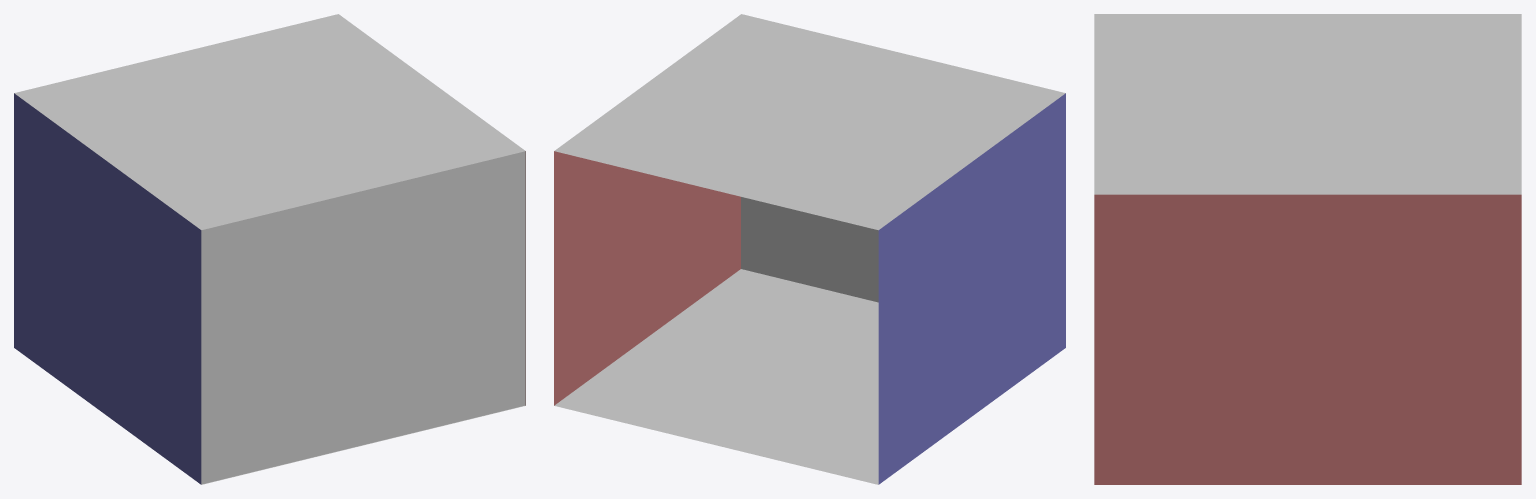
Rendered from CBspheres_lambertian.dae.
3 renders of one model, left to right at view 1: azimuth 30°, elevation 25°; view 2: azimuth 150°, elevation 25°; view 3: azimuth 270°, elevation 25°, orthographic. The views are drawn at different scales.
Parts seen in each view (by area): view 1: backWall, ceiling, rightWall; view 2: ceiling, rightWall, floor, leftWall, backWall; view 3: leftWall, ceiling.
Boxes of the visible parts, x1,y1,x2,y2 form: backWall: (201, 151, 525, 484); ceiling: (14, 14, 525, 230); rightWall: (14, 93, 201, 484); ceiling: (554, 14, 1065, 230); rightWall: (878, 93, 1065, 484); floor: (554, 269, 878, 484); leftWall: (554, 151, 740, 405); backWall: (741, 197, 878, 302); leftWall: (1094, 194, 1521, 484); ceiling: (1094, 14, 1521, 194).
Size of the model in its own units: 2 by 2 by 1.5.
